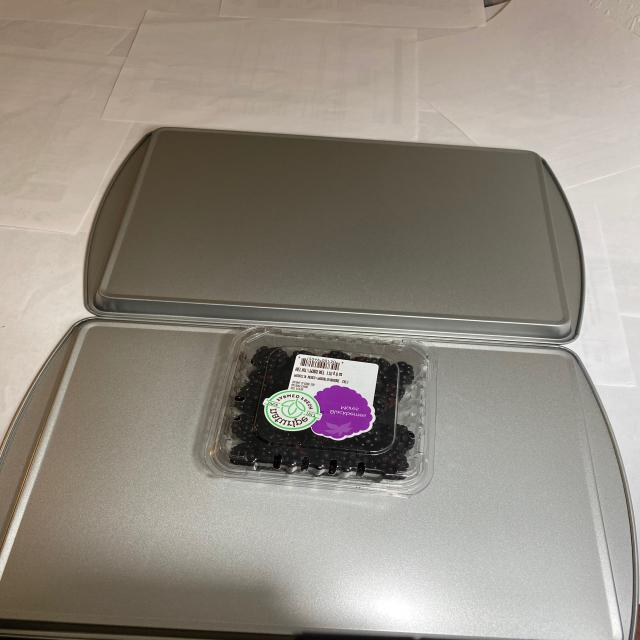blackberries: (204, 328, 426, 479)
